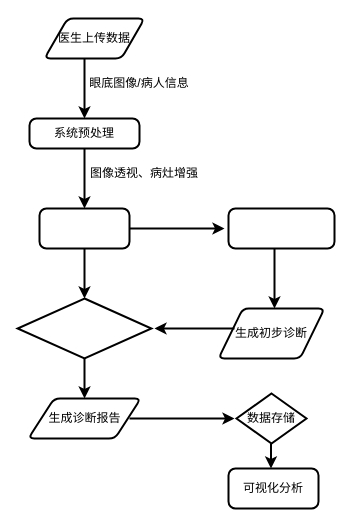
Image size: 353x526. Some labels were removed from this diagram. The box of each missing label's shape, as (x1, y1, x2, y2) in pixels:
医生修改/添加备注: (16, 297, 152, 359)
大模型分析结果: (227, 207, 335, 249)
模型预测: (38, 207, 130, 249)
